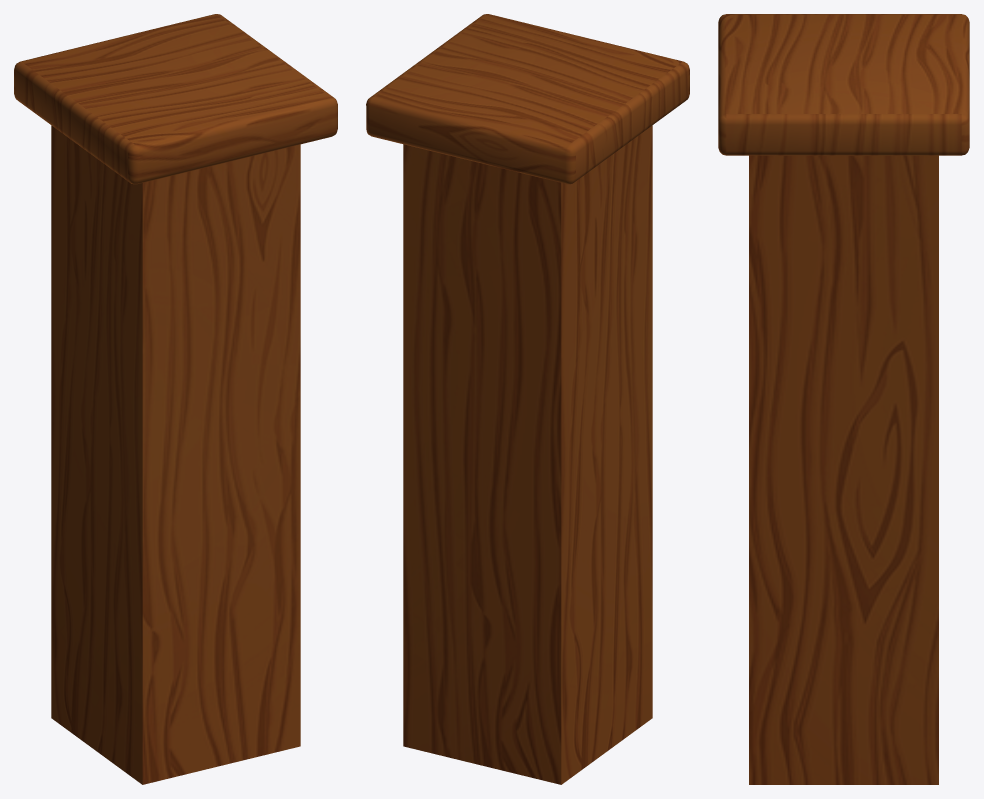
The model's file is SM_Env_Post.fbx.
3 views of the same model, side by side, from view 1: azimuth 30°, elevation 25°; view 2: azimuth 150°, elevation 25°; view 3: azimuth 270°, elevation 25° (orthographic). The views are drawn at different scales.
Parts seen in each view (by area): view 1: SM_Env_Post; view 2: SM_Env_Post; view 3: SM_Env_Post.
Boxes of the visible parts, x1,y1,x2,y2 form: SM_Env_Post: (14, 14, 337, 784); SM_Env_Post: (366, 14, 689, 784); SM_Env_Post: (718, 14, 969, 784).
Size of the model in its own units: 1 by 3 by 1.
